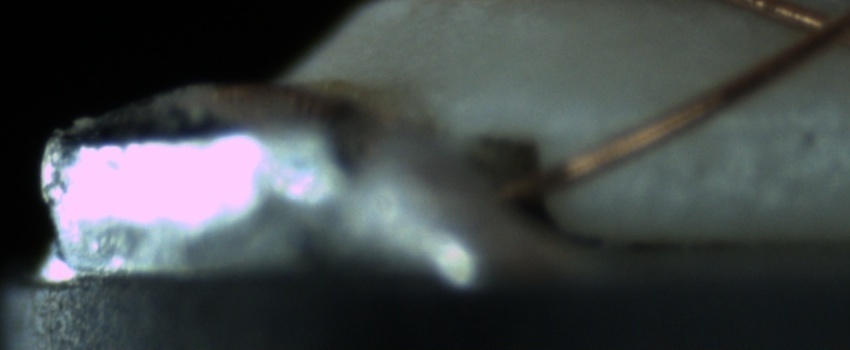CL: (775, 1, 849, 61)
DL: (684, 98, 849, 156)
